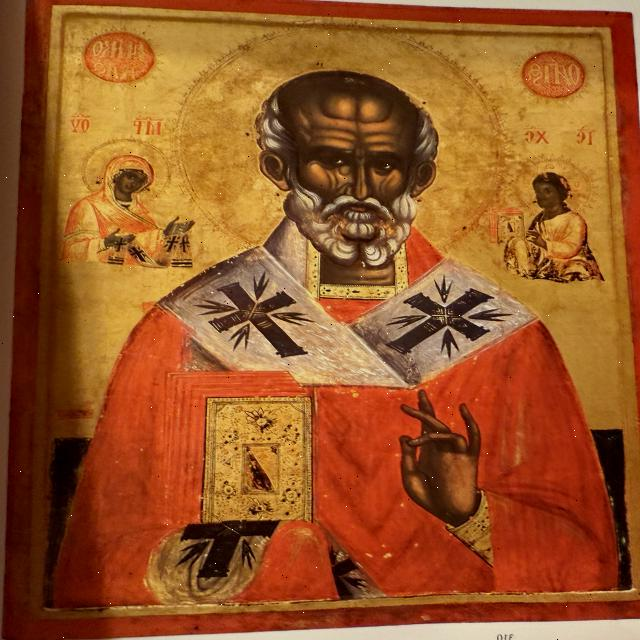aura: (181, 24, 504, 270), (83, 141, 175, 199), (522, 161, 595, 201)
book: (147, 360, 335, 536), (491, 209, 529, 245)
christ_hand: (376, 386, 507, 542)
saint: (57, 26, 595, 600)
